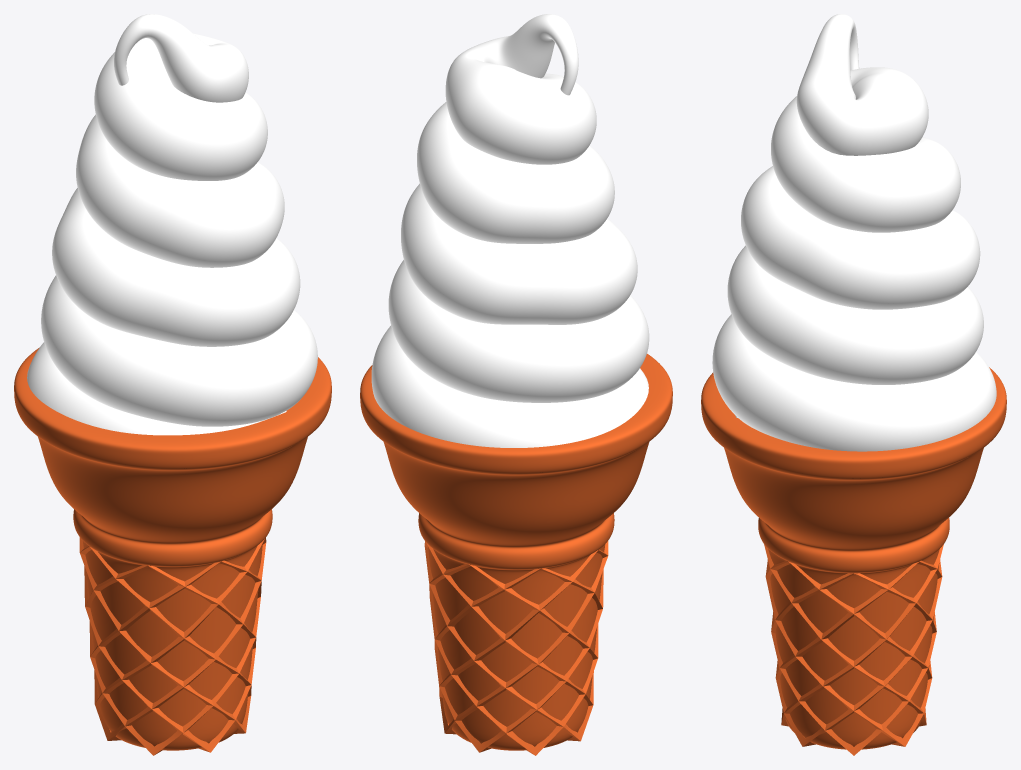
File: soft-serve-ice-cream.glb
The picture shows the model from 3 angles, left to right: view 1: azimuth 30°, elevation 25°; view 2: azimuth 150°, elevation 25°; view 3: azimuth 270°, elevation 25°; orthographic projection. The views are drawn at different scales.
Parts seen in each view (by area): view 1: Spiral, 円, 円.001; view 2: Spiral, 円, 円.001; view 3: Spiral, 円, 円.001.
Part boxes in pixels (left/top/right/bottom): Spiral: left=27, top=14, right=317, bottom=435; 円: left=14, top=347, right=331, bottom=750; 円.001: left=79, top=537, right=266, bottom=755; Spiral: left=371, top=14, right=649, bottom=447; 円: left=360, top=353, right=672, bottom=750; 円.001: left=424, top=541, right=608, bottom=755; Spiral: left=712, top=14, right=996, bottom=451; 円: left=701, top=367, right=1006, bottom=749; 円.001: left=764, top=544, right=943, bottom=755.
Bounding box in the file's own units: 1.33 × 3.34 × 1.33.
